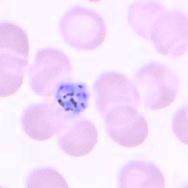Infected: (56, 82, 92, 115)
Uninfected: (94, 71, 140, 128), (60, 5, 107, 51), (132, 64, 179, 109), (28, 49, 71, 95), (104, 106, 150, 147), (150, 10, 188, 57), (21, 102, 64, 142), (58, 119, 98, 157), (128, 0, 167, 37), (0, 23, 30, 71), (116, 160, 165, 188), (0, 53, 25, 97)
